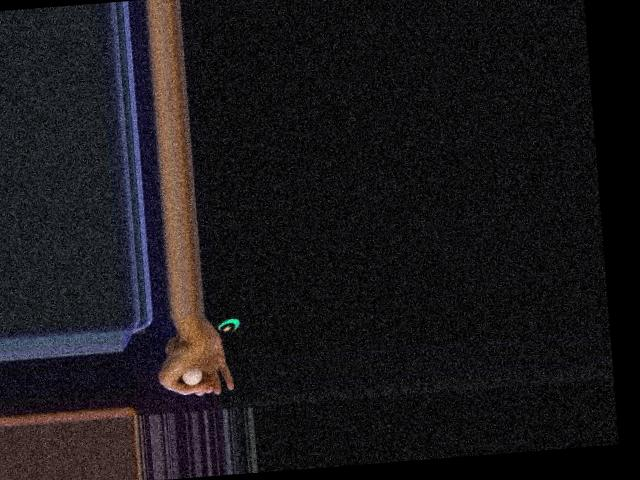egg: (180, 368, 203, 386)
